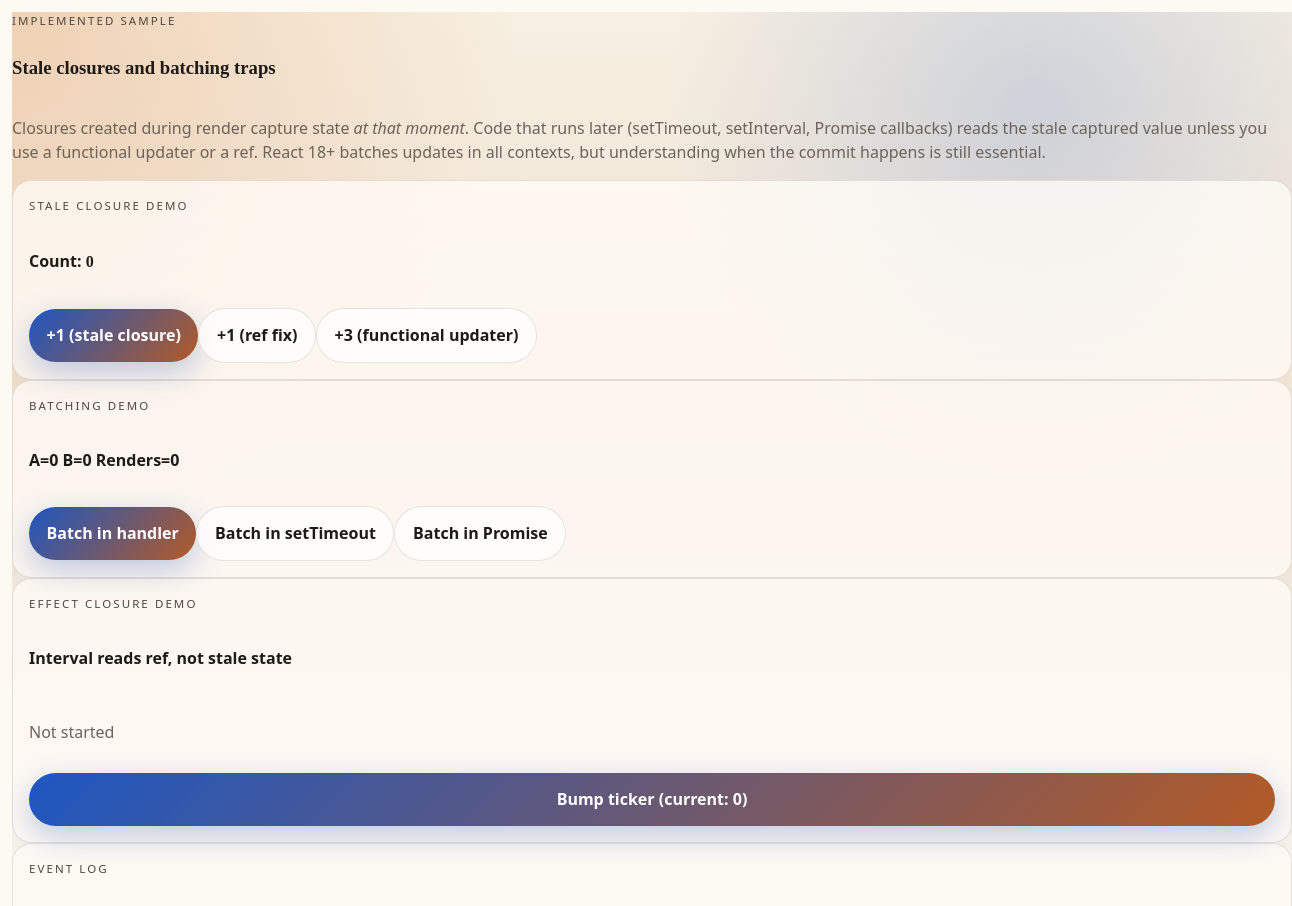
Test case: stale closure sample › batches updates across handlers, timeouts, promises, and interval ref reads
Expected: the text "Batching demo" is shown, [29,398,150,412]
Expected: the text "Effect closure demo" is shown, [29,596,198,611]
Click the button "Batch in handler".
click(113, 533)  # box [29,507,196,560]
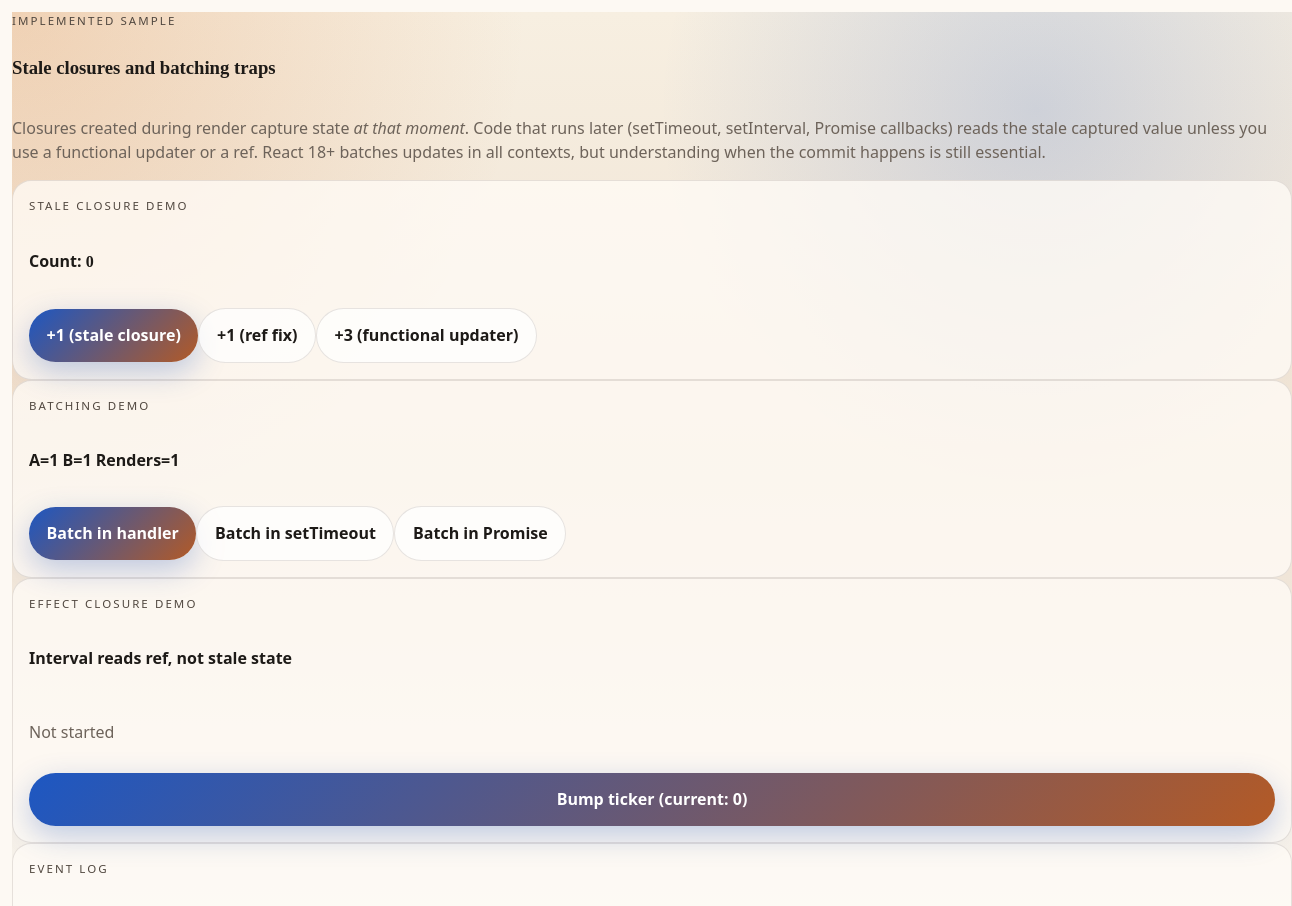
Expected: the heading "A=1 B=1 Renders=1" is shown, [29,449,179,471]
Click the button "Batch in setTimeout".
click(295, 533)  # box [196,506,394,561]
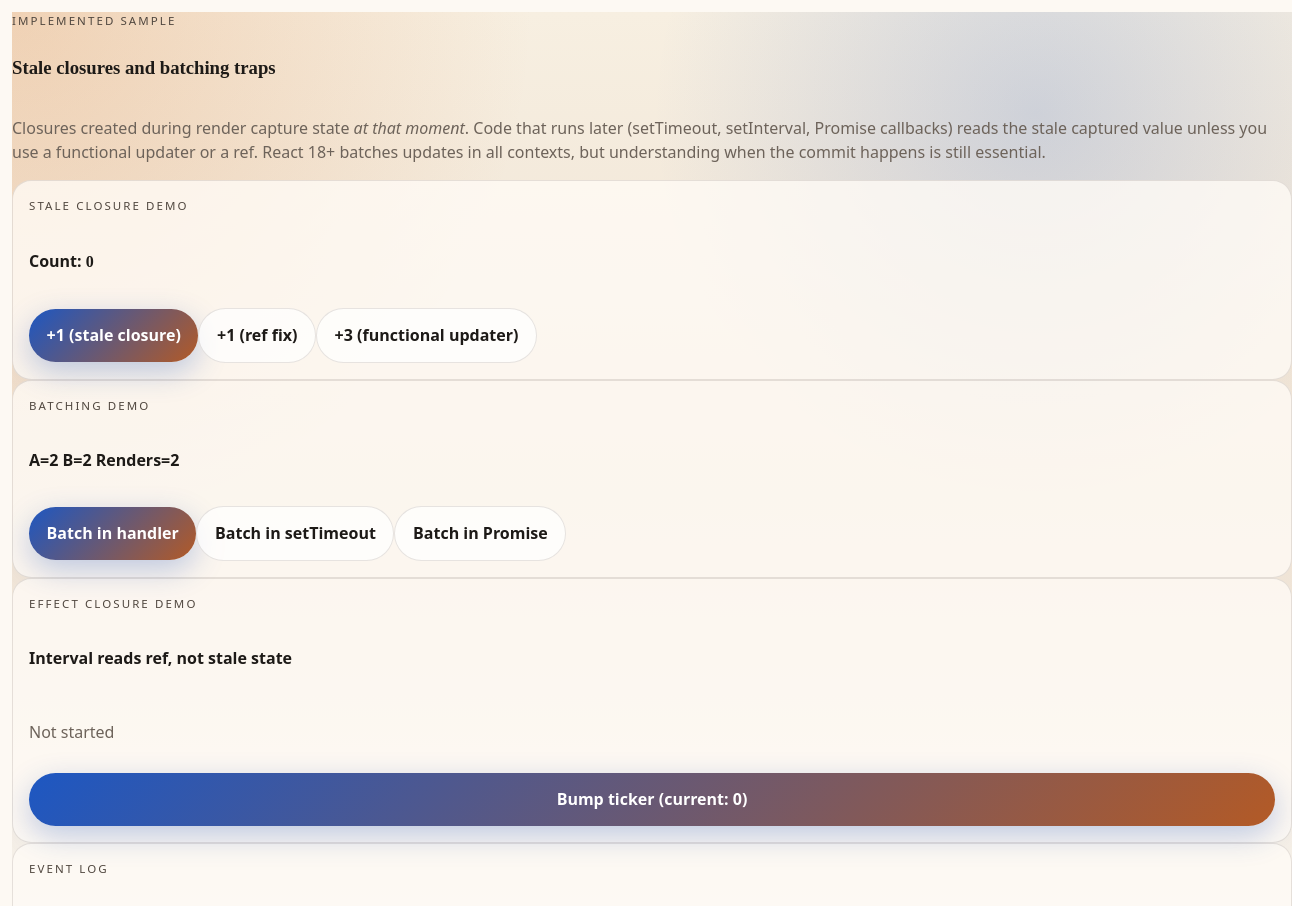
Expected: the heading "A=2 B=2 Renders=2" is shown, [29,449,179,471]
Click the button "Batch in Promise".
click(480, 533)  # box [394,506,566,561]
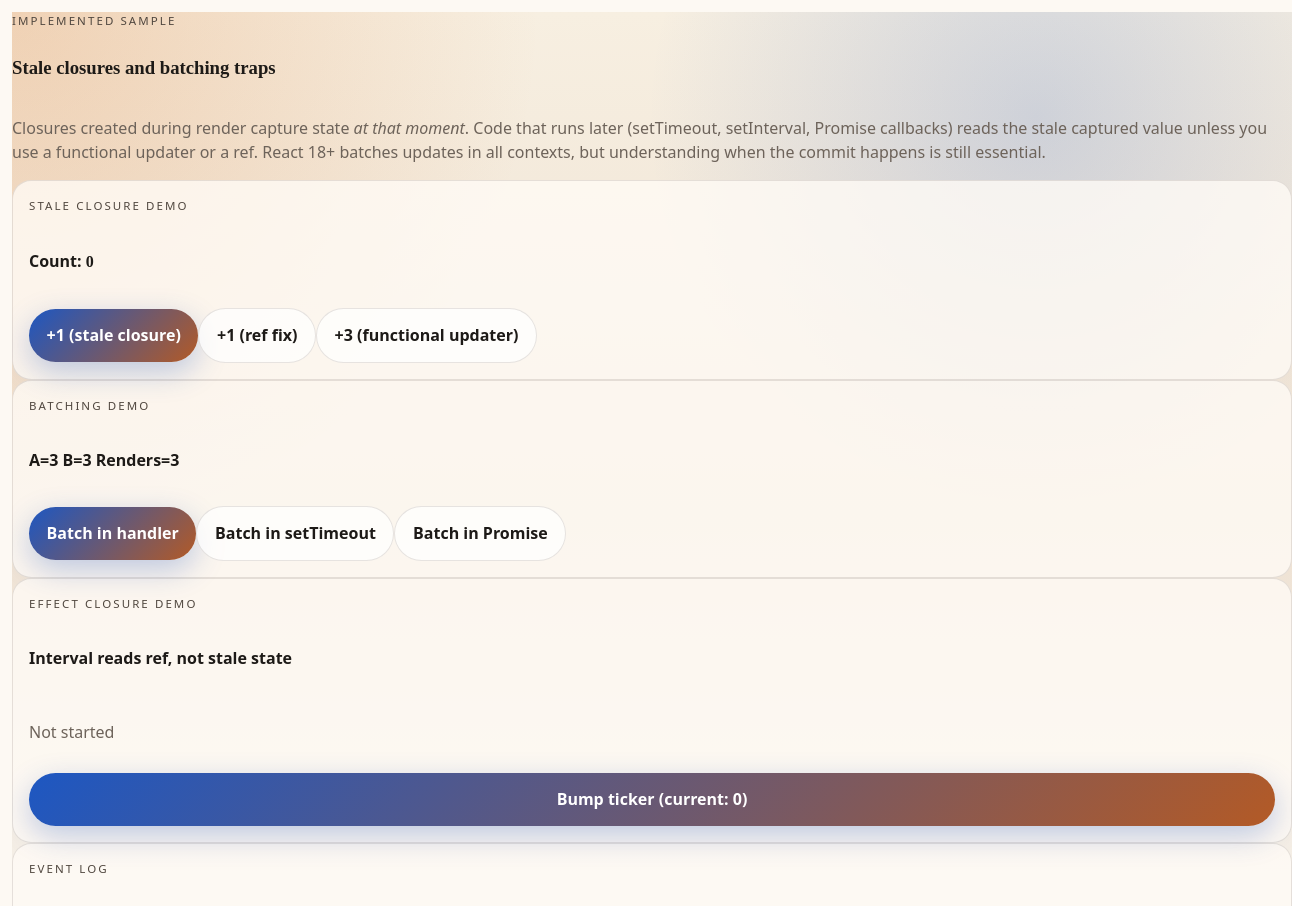
Expected: the heading "A=3 B=3 Renders=3" is shown, [29,449,179,471]
Click the button "Bump ticker (current: 0)".
click(652, 799)  # box [29,773,1275,826]
Wait 1000 ms
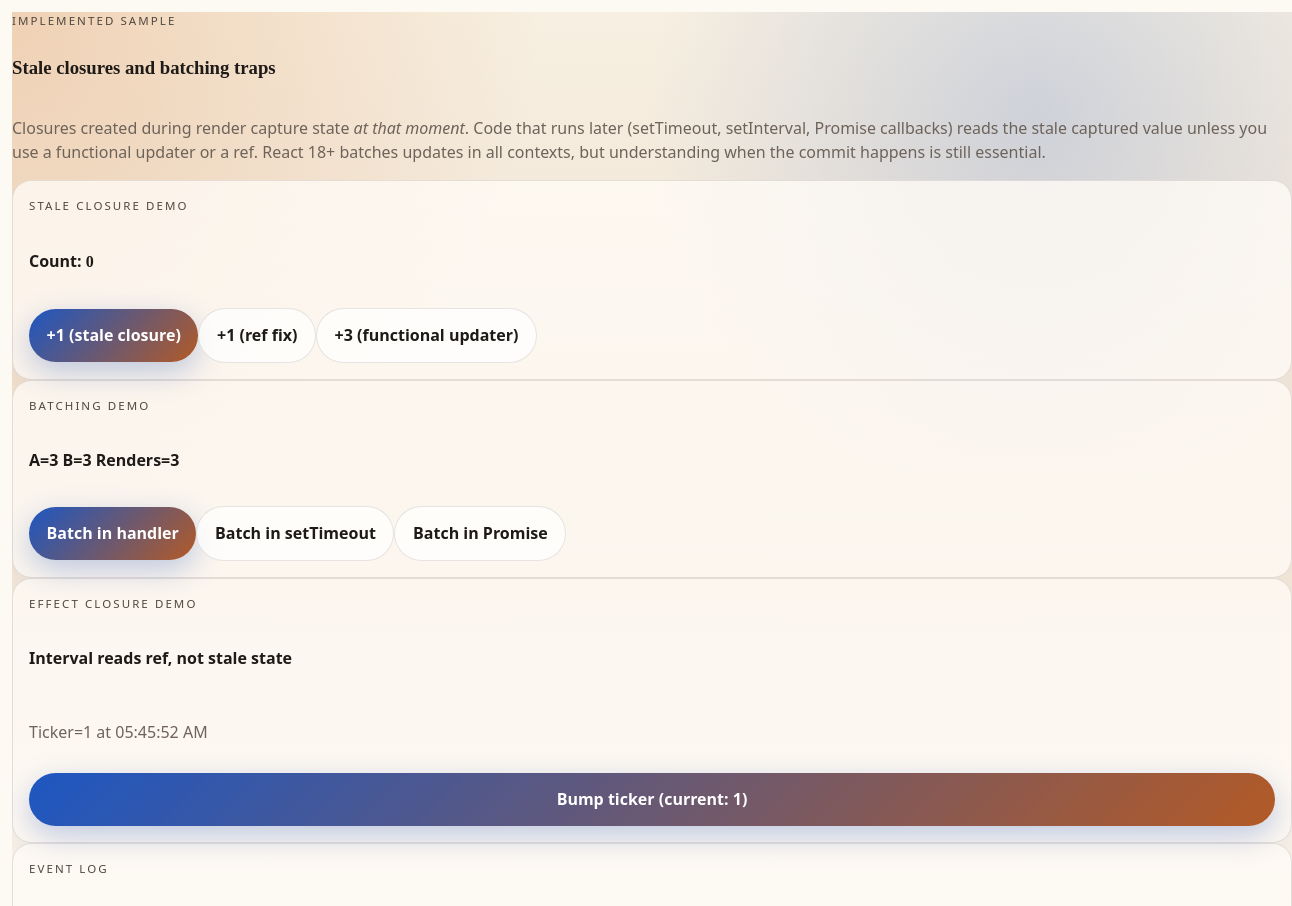
Expected: the text "Ticker=1 at 05:45:52 AM" is shown, [29,721,208,743]
